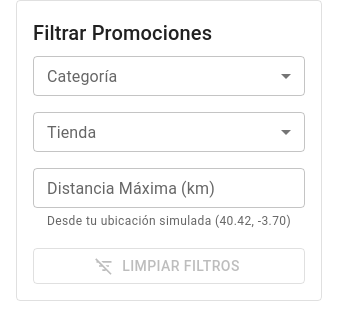
Test: FilterPanel › should update store filter in store when selected
Click the dropdown named "Tienda" next to "Tienda": coordinates (169, 132) [33,112,305,152]
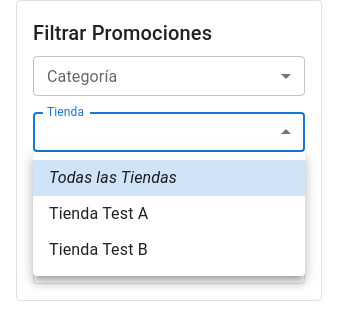
Click the option "Tienda Test B": coordinates (98, 250) [49,240,148,259]
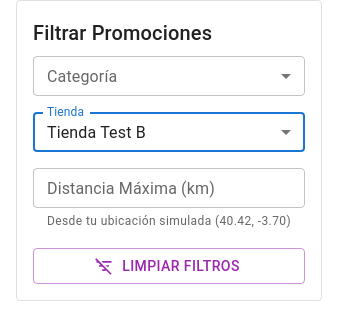
Result: the dropdown labelled "Tienda" reads "Tienda Test B"
Result: the button "Limpiar Filtros" is enabled at [33,248,305,284]
Click the dropdown labelled "Tienda": coordinates (96, 132) [47,122,146,142]
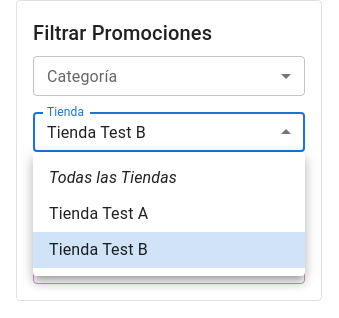
Click the option "Todas las Tiendas": coordinates (113, 178) [49,168,177,187]
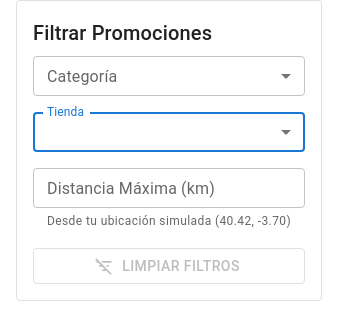
Result: the button "Limpiar Filtros" is disabled at [33,248,305,284]
